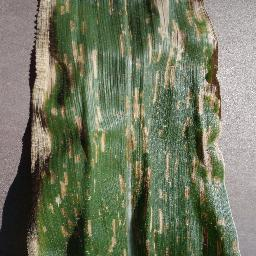Gray_Leaf_Spot: (120, 128, 243, 256), (24, 0, 83, 256), (143, 0, 223, 128), (86, 96, 108, 170), (122, 86, 142, 129), (108, 217, 120, 256), (88, 47, 100, 84), (106, 0, 130, 18), (84, 173, 98, 203), (116, 29, 128, 56), (83, 215, 94, 240), (131, 55, 143, 75)
